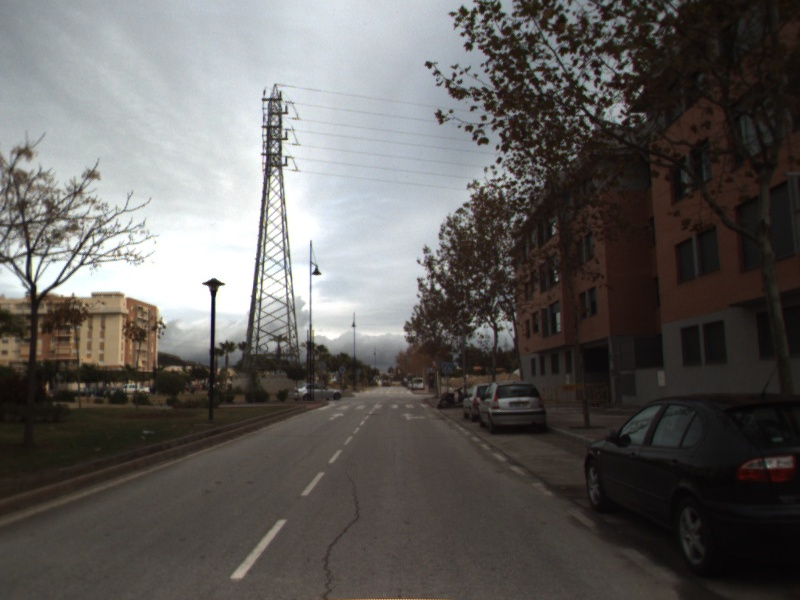STRAIGHT: (326, 410, 346, 422)
STRAIGHT_RIGHT: (399, 410, 428, 422)
